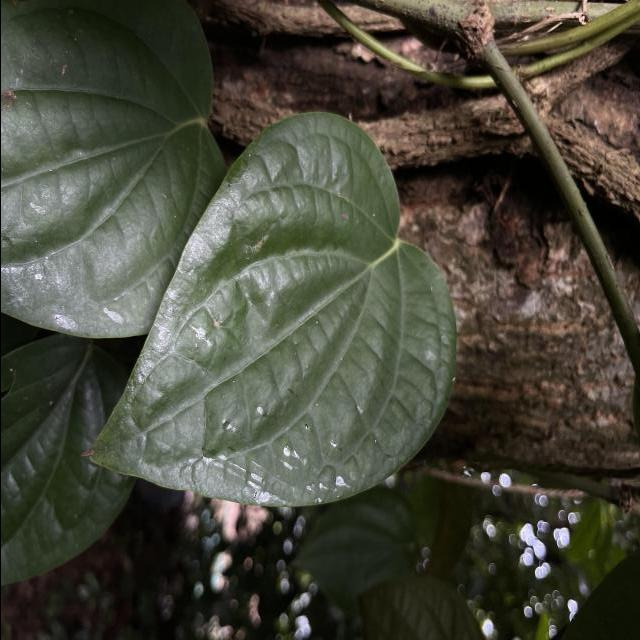Piper nigrum: (80, 108, 462, 510)
